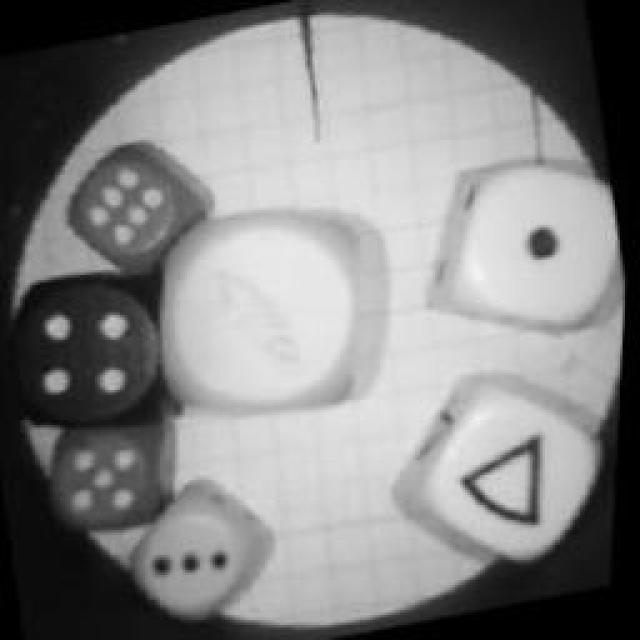dice_3: (108, 462, 300, 640)
dice_4: (0, 252, 202, 449)
dice_5: (37, 399, 195, 541)
dice_6: (54, 125, 221, 287)
